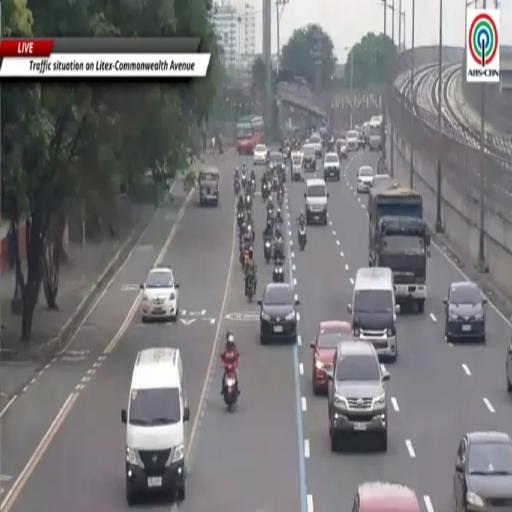bus: (237, 116, 263, 154), (369, 117, 382, 150)
car: (122, 348, 190, 506), (328, 341, 389, 452), (454, 431, 511, 511), (310, 320, 353, 394), (444, 281, 486, 343), (258, 283, 299, 344), (141, 265, 179, 322), (353, 483, 420, 511), (269, 152, 285, 182), (323, 153, 340, 181), (357, 166, 374, 193), (303, 144, 315, 171), (309, 134, 322, 157), (254, 144, 267, 166), (506, 340, 511, 393), (346, 131, 359, 151), (336, 139, 347, 159), (358, 128, 366, 149)
motorcycle: (224, 365, 239, 411), (273, 260, 284, 282), (264, 238, 272, 264), (274, 243, 284, 263), (298, 226, 306, 250), (247, 275, 254, 302), (261, 183, 269, 201), (248, 180, 256, 198), (244, 194, 252, 211), (242, 249, 248, 270), (237, 212, 244, 229), (277, 187, 283, 206), (267, 213, 273, 229), (272, 175, 278, 191), (234, 179, 240, 194), (241, 174, 247, 188), (267, 206, 273, 219)
truck: (368, 179, 430, 313)
